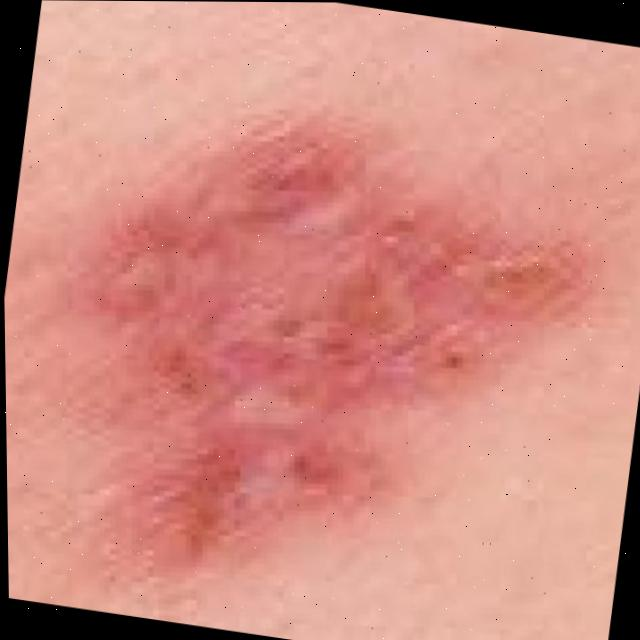Shingles: (67, 116, 585, 586)
